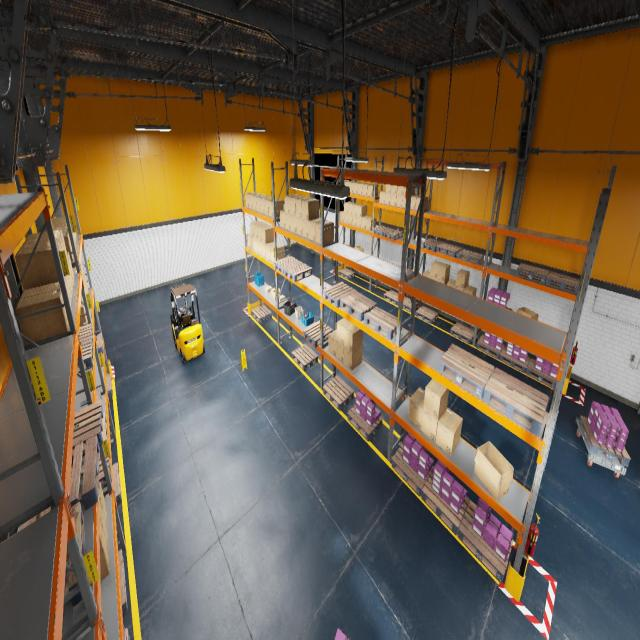box: (15, 288, 68, 346), (474, 442, 514, 500), (15, 243, 59, 290), (436, 407, 462, 456), (27, 229, 68, 260), (423, 379, 449, 420), (421, 407, 447, 443), (23, 233, 64, 250), (408, 387, 424, 430), (20, 282, 60, 298), (45, 224, 75, 245), (19, 238, 62, 251), (52, 221, 76, 244), (343, 323, 362, 352), (52, 218, 76, 240), (100, 523, 109, 581), (52, 217, 76, 236), (344, 345, 362, 370), (316, 220, 334, 245), (308, 218, 326, 242), (336, 318, 351, 346), (98, 482, 107, 526), (302, 198, 319, 220), (296, 197, 312, 218), (284, 194, 300, 214), (101, 502, 108, 547), (268, 199, 284, 218), (290, 196, 305, 216), (270, 243, 285, 262), (63, 232, 73, 260), (517, 307, 538, 320), (456, 269, 470, 288), (437, 262, 450, 281), (264, 198, 277, 216), (266, 242, 279, 260), (430, 260, 443, 278), (256, 196, 270, 212), (248, 193, 262, 209), (261, 226, 274, 243), (73, 271, 82, 295), (254, 222, 266, 240), (80, 301, 88, 327), (252, 194, 265, 210), (245, 192, 258, 208), (258, 224, 270, 241), (250, 220, 262, 237), (64, 276, 71, 305), (67, 252, 74, 281), (73, 267, 84, 285), (65, 275, 72, 303), (415, 196, 428, 211), (260, 197, 271, 214), (336, 340, 344, 363), (329, 330, 336, 356), (67, 258, 73, 288), (410, 195, 420, 210), (44, 226, 68, 232), (404, 183, 416, 195), (464, 285, 476, 296), (367, 184, 378, 196), (366, 217, 376, 230), (356, 204, 366, 217), (362, 183, 372, 196), (98, 491, 102, 521), (302, 218, 308, 238), (361, 216, 371, 228), (352, 203, 361, 216), (348, 202, 357, 215), (358, 182, 367, 195), (296, 217, 302, 236), (290, 214, 296, 233), (344, 202, 353, 214), (353, 182, 362, 194), (99, 512, 102, 547), (349, 182, 357, 194), (280, 210, 285, 229), (396, 195, 403, 208), (390, 193, 397, 206), (285, 213, 290, 231), (379, 190, 385, 204), (447, 279, 456, 288), (84, 272, 88, 292), (455, 285, 468, 291), (68, 275, 72, 294), (84, 287, 88, 306), (437, 278, 449, 284), (384, 193, 390, 205), (355, 245, 364, 252), (84, 278, 88, 293), (81, 264, 84, 284), (262, 242, 266, 257), (258, 240, 262, 255), (248, 233, 252, 248), (81, 260, 84, 279), (254, 238, 258, 252), (250, 236, 254, 250), (423, 270, 430, 278), (391, 185, 397, 194), (385, 184, 391, 193), (402, 195, 406, 208), (343, 213, 348, 223), (273, 288, 280, 295), (357, 216, 361, 228), (340, 210, 344, 222), (397, 186, 403, 194), (352, 215, 356, 226), (348, 214, 352, 225), (278, 295, 284, 302), (266, 286, 272, 293), (84, 281, 87, 293), (273, 294, 279, 300), (345, 181, 352, 186), (271, 287, 275, 294), (429, 276, 436, 280), (62, 229, 68, 233), (344, 180, 348, 186), (81, 296, 83, 300)
forklift: (170, 284, 205, 364)
pallets: (18, 435, 100, 531), (458, 501, 513, 583), (482, 368, 548, 435), (421, 470, 469, 535), (438, 344, 494, 398), (579, 415, 630, 467), (391, 442, 434, 496), (64, 502, 86, 606), (73, 401, 103, 456), (364, 306, 402, 339), (348, 405, 382, 441), (323, 375, 354, 411), (340, 292, 377, 321), (526, 358, 556, 388), (323, 282, 356, 308), (499, 346, 530, 373), (303, 320, 332, 347), (104, 462, 122, 505), (545, 271, 580, 293), (292, 344, 318, 371), (476, 335, 504, 359), (516, 263, 549, 283), (98, 444, 112, 489), (119, 550, 128, 616), (77, 339, 93, 373), (284, 262, 312, 281), (450, 322, 474, 344), (274, 256, 300, 274), (437, 242, 462, 258), (416, 306, 438, 324), (251, 305, 272, 323), (458, 250, 484, 264), (397, 296, 418, 312), (79, 324, 93, 347), (421, 238, 444, 251), (101, 412, 108, 443), (372, 226, 392, 236), (383, 229, 403, 239), (384, 290, 398, 304), (95, 333, 104, 354), (339, 268, 355, 279), (106, 373, 113, 397), (408, 268, 420, 280), (96, 390, 102, 406), (392, 262, 406, 268), (125, 628, 130, 640), (380, 258, 391, 262), (346, 244, 354, 248), (507, 307, 512, 310)
